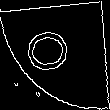O_E: (29, 32, 81, 78)
